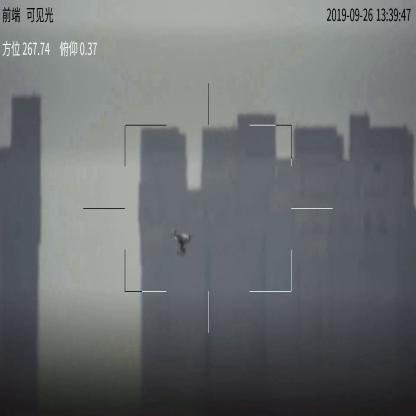uav: (170, 228, 194, 256)
